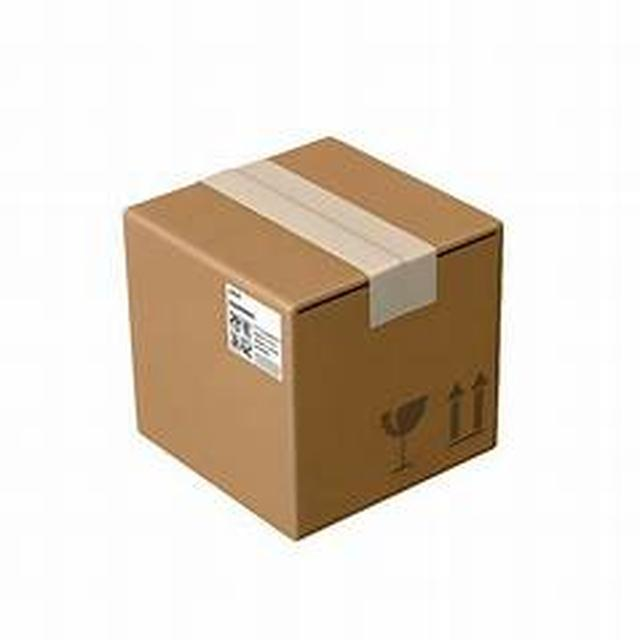box: (77, 112, 547, 560)
